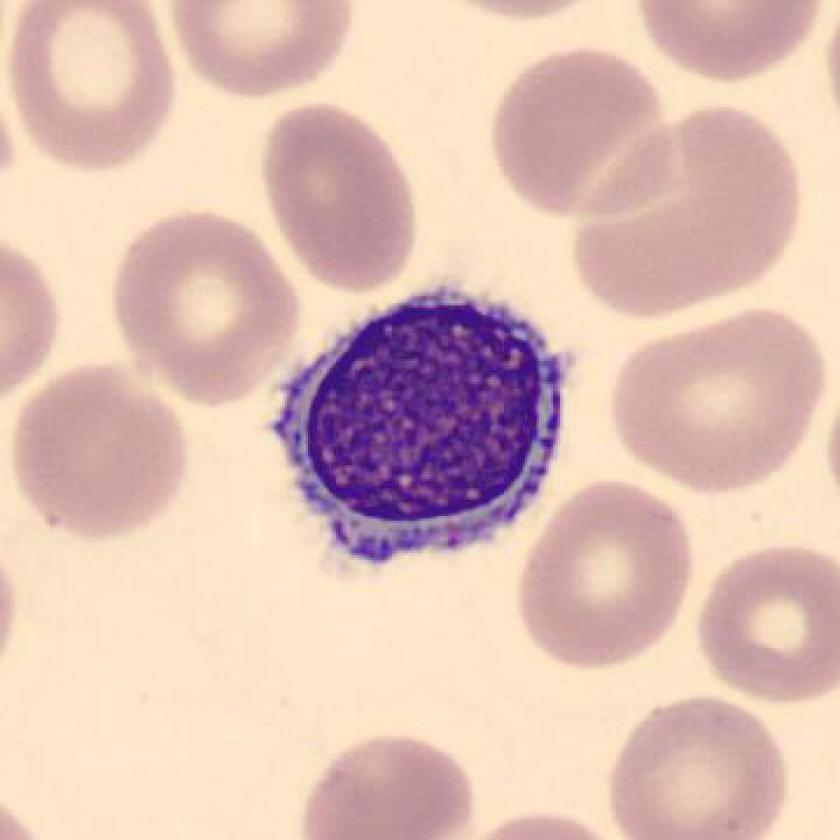lymphocyte: (256, 272, 585, 596)
